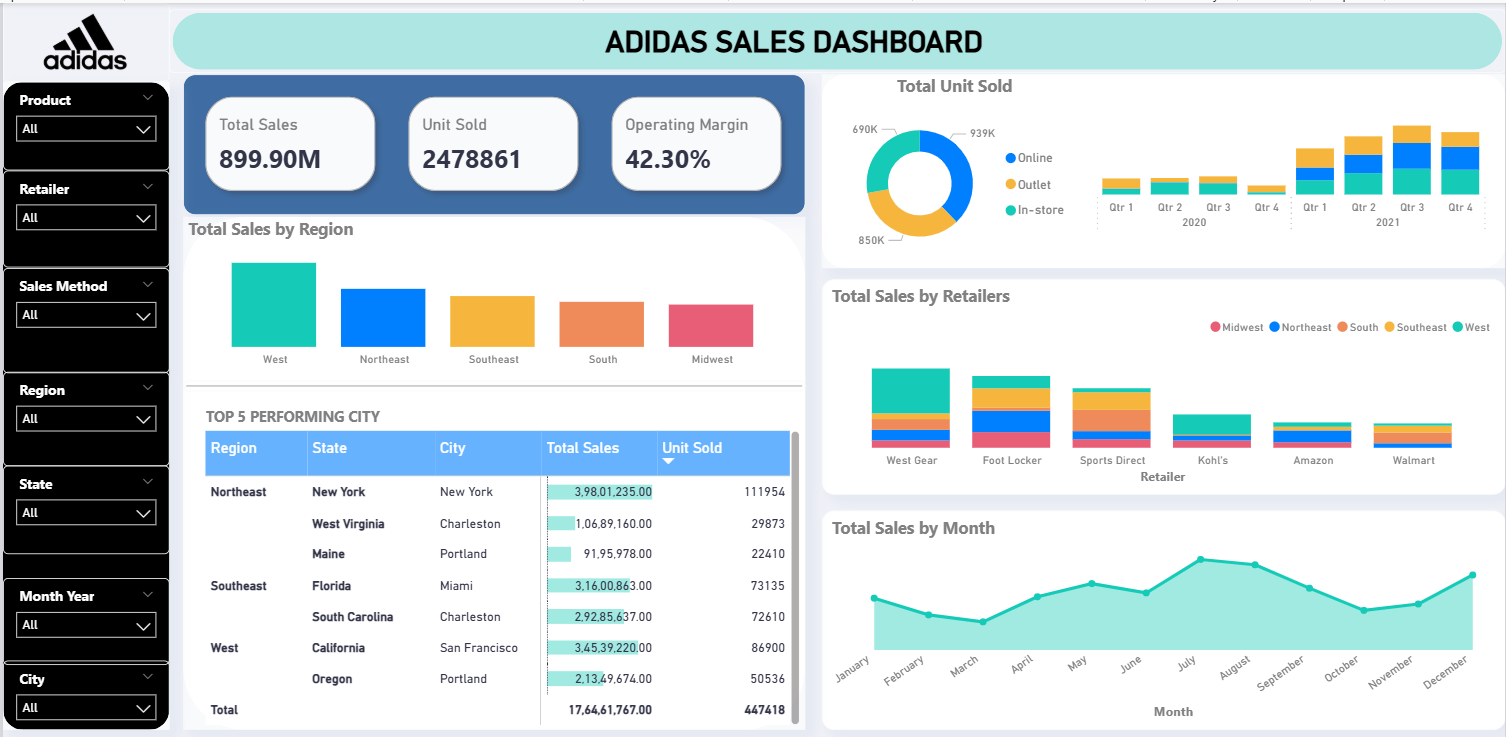

The page's visual inventory and layout, read from the dashboard file:
{"tool":"powerbi","page":{"name":"OVERVIEW","canvas":[1450,720],"ordinal":0},"visuals":[{"type":"cardVisual","fields":{"Data":["Measures_.Total Sales","Measures_.Unit Sold","Measures_.Operating Margin"]},"box":[173.9,68.5,600.7,135.7],"z":0},{"type":"shape","box":[790.3,68.5,659.9,187],"z":1000},{"type":"donutChart","title":"Total Unit Sold","fields":{"Y":["Measures_.Unit Sold"],"Category":["Data Sales Adidas.Sales Method"]},"box":[798.2,68.5,239.7,189.7],"z":2000},{"type":"columnChart","fields":{"Y":["Measures_.Total Sales"],"Category":["Data Sales Adidas.Invoice Date.Variation.Date Hierarchy.Year","Data Sales Adidas.Invoice Date.Variation.Date Hierarchy.Quarter"],"Series":["Data Sales Adidas.Sales Method"]},"box":[1038,76.4,412.3,154.1],"z":3000},{"type":"columnChart","title":"Total Sales by Retailers","fields":{"Category":["Data Sales Adidas.Retailer"],"Y":["Measures_.Total Sales"],"Series":["Data Sales Adidas.Region"]},"box":[790.3,266.1,659.9,208.1],"z":4000},{"type":"areaChart","fields":{"Category":["Data Sales Adidas.Invoice Date.Variation.Date Hierarchy.Month"],"Y":["Measures_.Total Sales"]},"box":[790.3,490,659.9,212.1],"z":5000},{"type":"shape","box":[173.9,206.8,600.7,495.3],"z":6000},{"type":"columnChart","title":"Total Sales by Region","fields":{"Y":["Measures_.Total Sales"],"Category":["Data Sales Adidas.Region"],"Series":["Data Sales Adidas.Region"]},"box":[173.9,206.8,600.7,152.8],"z":7000},{"type":"pivotTable","title":"           TOP 5 PERFORMING CITY","fields":{"Rows":["Data Sales Adidas.Region","Data Sales Adidas.State","Data Sales Adidas.City"],"Values":["Measures_.Total Sales","Measures_.Unit Sold"]},"box":[191,389.9,583.5,312.2],"z":8000},{"type":"shape","box":[0,76.4,160.7,625.7],"z":9000},{"type":"slicer","fields":{"Values":["Data Sales Adidas.Product"]},"box":[0,76.4,160.7,85.6],"z":10000},{"type":"slicer","fields":{"Values":["Data Sales Adidas.Retailer"]},"box":[0,162,160.7,93.5],"z":11000},{"type":"slicer","fields":{"Values":["Data Sales Adidas.Sales Method"]},"box":[0,255.5,160.7,101.4],"z":12000},{"type":"slicer","fields":{"Values":["Data Sales Adidas.Region"]},"box":[0,355.7,160.7,90.9],"z":13000},{"type":"slicer","fields":{"Values":["Data Sales Adidas.State"]},"box":[0,446.5,160.7,85.6],"z":14000},{"type":"slicer","fields":{"Values":["Data Sales Adidas.City"]},"box":[0,634.9,160.7,67.2],"z":15000},{"type":"slicer","fields":{"Values":["Data Sales Adidas.Month Year"]},"box":[0,554.6,160.7,84.3],"z":16000},{"type":"image","box":[0,0,160.7,76.4],"z":17000},{"type":"shape","box":[160.7,6.6,1289.6,61.9],"z":18000},{"type":"textbox","box":[429.4,15.8,667.8,52.7],"z":19000},{"type":"shape","box":[173.9,364.9,600.7,10.5],"z":20000}]}

Visuals, with their boxes in screenshot pixels (x1, y1, x2, y2), scaled from the page's 1450x720 canvas onto the 1506x737 screenshot:
cardVisual - Measures_.Total Sales x Measures_.Unit Sold: locate(181, 70, 805, 209)
shape: locate(821, 70, 1505, 262)
"Total Unit Sold" donutChart: locate(829, 70, 1078, 264)
columnChart - Measures_.Total Sales x Data Sales Adidas.Invoice Date.Variation.Date Hierarchy.Year: locate(1078, 78, 1505, 236)
"Total Sales by Retailers" columnChart: locate(821, 272, 1505, 485)
areaChart - Data Sales Adidas.Invoice Date.Variation.Date Hierarchy.Month x Measures_.Total Sales: locate(821, 502, 1505, 719)
shape: locate(181, 212, 805, 719)
"Total Sales by Region" columnChart: locate(181, 212, 805, 368)
"           TOP 5 PERFORMING CITY" pivotTable: locate(198, 399, 804, 719)
shape: locate(0, 78, 167, 719)
slicer - Data Sales Adidas.Product: locate(0, 78, 167, 166)
slicer - Data Sales Adidas.Retailer: locate(0, 166, 167, 262)
slicer - Data Sales Adidas.Sales Method: locate(0, 262, 167, 365)
slicer - Data Sales Adidas.Region: locate(0, 364, 167, 457)
slicer - Data Sales Adidas.State: locate(0, 457, 167, 545)
slicer - Data Sales Adidas.City: locate(0, 650, 167, 719)
slicer - Data Sales Adidas.Month Year: locate(0, 568, 167, 654)
image: locate(0, 0, 167, 78)
shape: locate(167, 7, 1505, 70)
textbox: locate(446, 16, 1140, 70)
shape: locate(181, 374, 805, 384)
